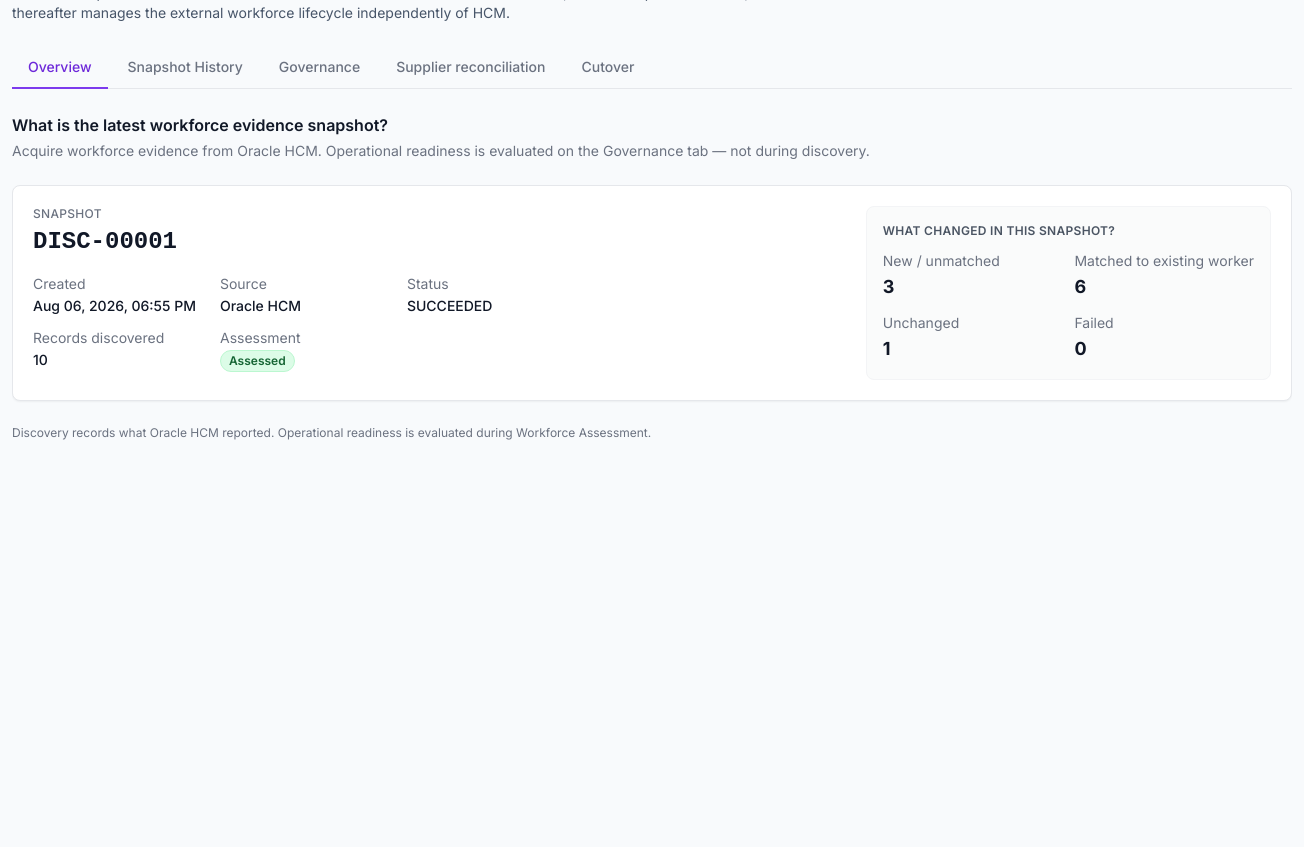
Test: HcmConnectorOperationsPanel — migration lineage toggle (render) › shows readiness reasons and operational states after assessment
This screenshot has width=1304, height=847.
Expected: the navigation bar with test id "workforce-import-tabs" is shown, [12,47,1292,89]
Step 1. Click the tab "Governance" → coordinates (320, 68), box [263,47,376,89]
(page scrolled)
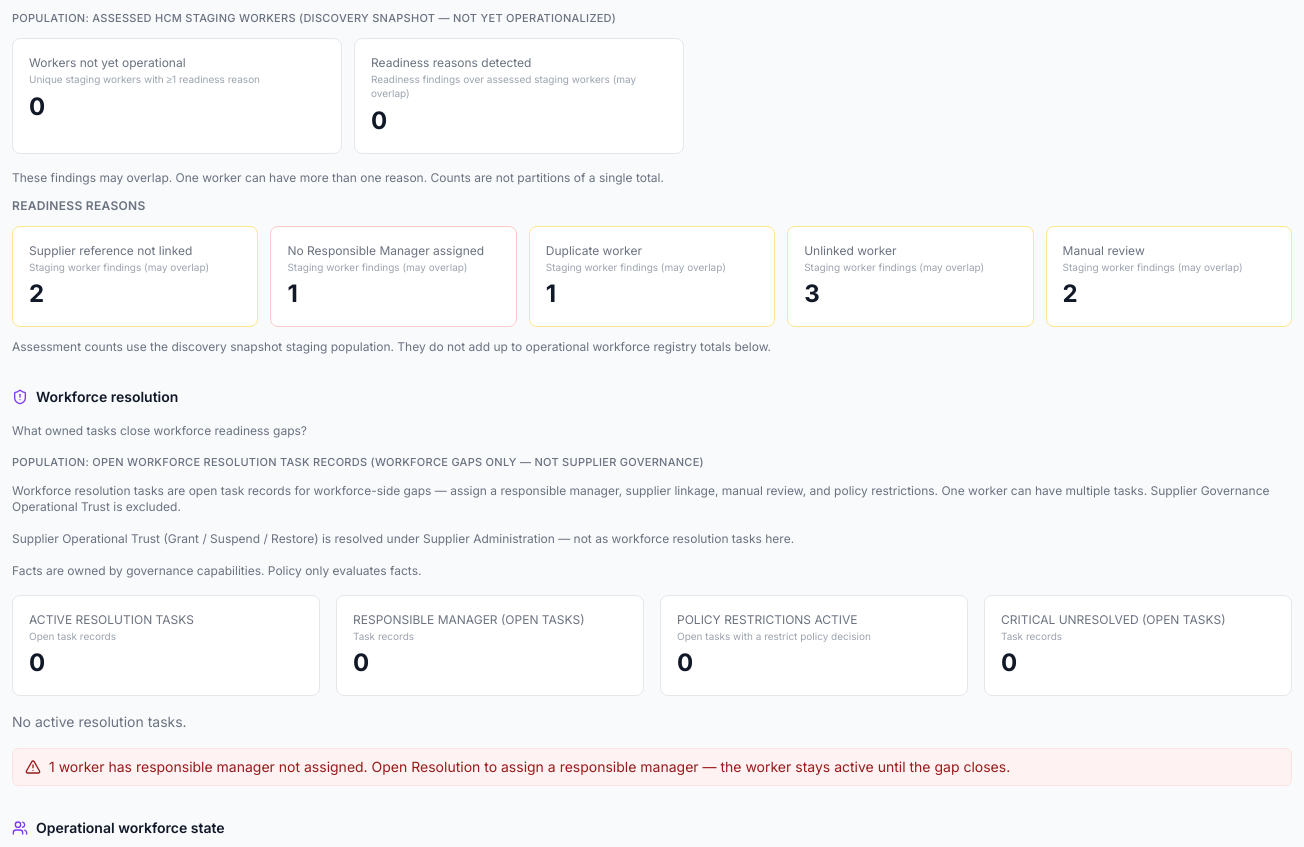
Now the text "Manual review" is shown, box [1063,243,1145,258]
Now the element with test id "governance-remediation-section" is shown, box [12,387,1292,786]
Now the heading "Workforce resolution" is shown, box [12,388,178,405]
